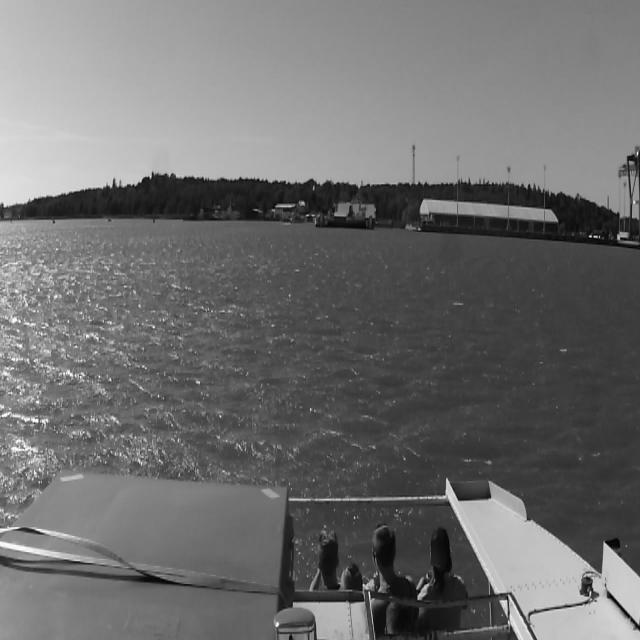buoy: (152, 212, 156, 226)
